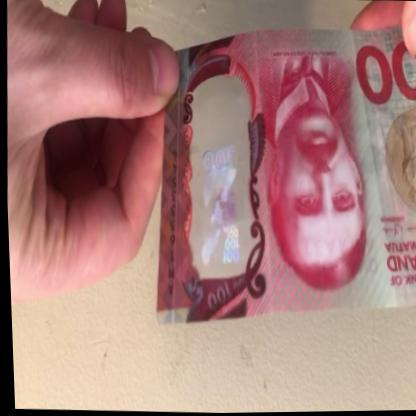100F: (188, 102, 246, 268)
